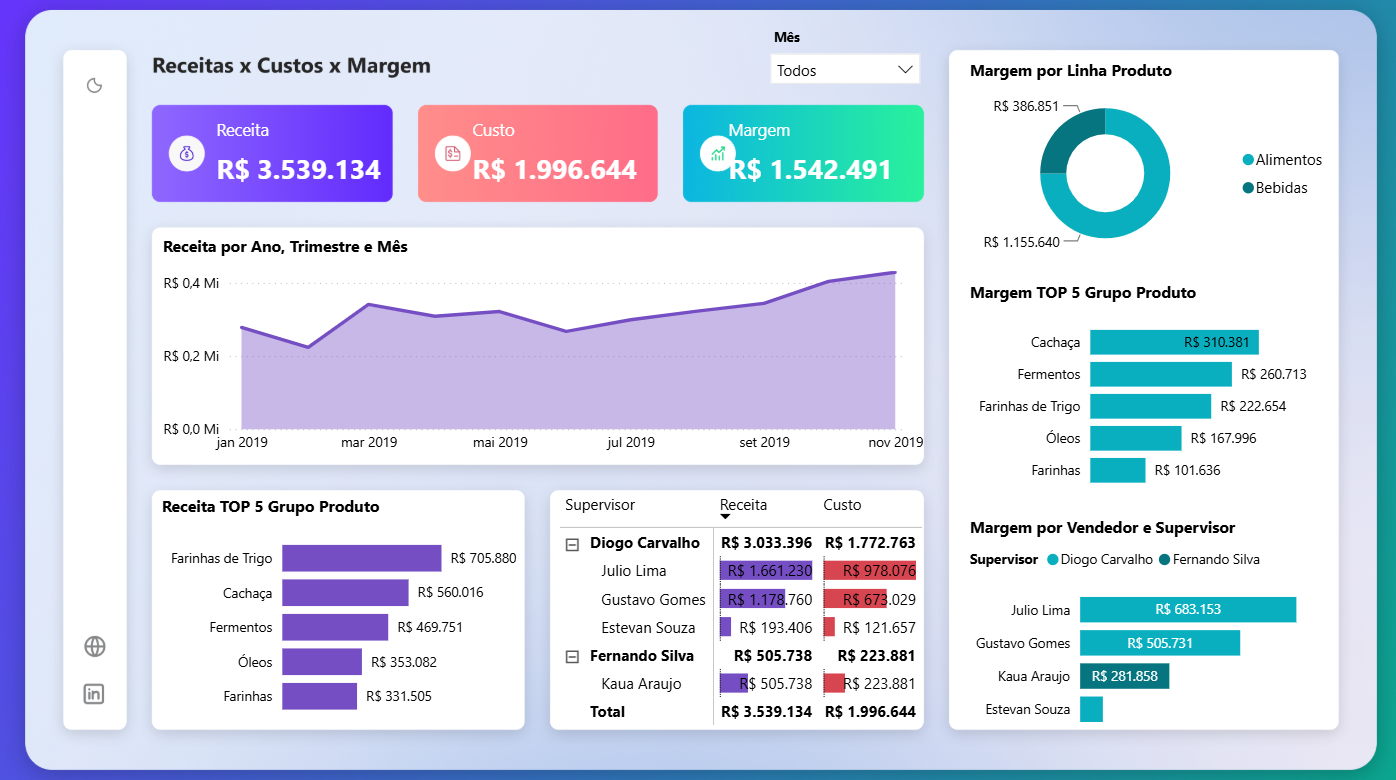

The page's visual inventory and layout, read from the dashboard file:
{"tool":"powerbi","page":{"name":"Dark1","canvas":[1280,720],"ordinal":0},"visuals":[{"type":"cardVisual","fields":{"Data":["Sum(Receita.Receita)","Sum(Receita.Custo)","Receita.Margem"]},"box":[201.3,108.2,662.4,82.5],"z":0},{"type":"barChart","title":"Receita TOP 5 Grupo Produto","fields":{"Category":["Cadastro de Produtos.Grupo Produto"],"Y":["Sum(Receita.Receita)"]},"box":[156.9,453.1,324.5,208.4],"z":1000},{"type":"pivotTable","fields":{"Rows":["Receita.Supervisor","Receita.Vendedor"],"Values":["Sum(Receita.Receita)","Sum(Receita.Custo)"]},"box":[509.9,443.3,341.4,239.4],"z":2000},{"type":"areaChart","fields":{"Category":["Receita.Data.Variation.Hierarquia de datas.Ano","Receita.Data.Variation.Hierarquia de datas.Trimestre","Receita.Data.Variation.Hierarquia de datas.Mês","Receita.Data.Variation.Hierarquia de datas.Dia"],"Y":["Sum(Receita.Receita)"]},"box":[157.8,222.6,684.5,202.2],"z":3000},{"type":"barChart","title":"Margem TOP 5 Grupo Produto","fields":{"Category":["Cadastro de Produtos.Grupo Produto"],"Y":["Receita.Margem"]},"box":[873.4,263.3,332.5,196],"z":4000},{"type":"barChart","fields":{"Y":["Receita.Margem"],"Category":["Receita.Vendedor"],"Series":["Receita.Supervisor"]},"box":[873.4,471.7,332.5,200.4],"z":5000},{"type":"donutChart","fields":{"Y":["Receita.Margem"],"Category":["Cadastro de Produtos.Linha Produto"]},"box":[873.4,66.5,332.5,183.5],"z":6000},{"type":"slicer","fields":{"Values":["Receita.Data.Variation.Hierarquia de datas.Mês"]},"box":[691.6,33.7,152.5,65.6],"z":7000},{"type":"actionButton","box":[78.9,566.6,46.1,39.9],"z":8000},{"type":"actionButton","box":[78.9,612.7,46.1,39.9],"z":9000}]}

Visuals, with their boxes in screenshot pixels (x1, y1, x2, y2), scaled from the page's 1280x720 canvas onto the 1396x780 screenshot:
cardVisual - Sum(Receita.Receita) x Sum(Receita.Custo): 220,117,942,207
"Receita TOP 5 Grupo Produto" barChart: 171,491,525,717
pivotTable - Receita.Supervisor x Receita.Vendedor: 556,480,928,740
areaChart - Receita.Data.Variation.Hierarquia de datas.Ano x Receita.Data.Variation.Hierarquia de datas.Trimestre: 172,241,919,460
"Margem TOP 5 Grupo Produto" barChart: 953,285,1315,498
barChart - Receita.Margem x Receita.Vendedor: 953,511,1315,728
donutChart - Receita.Margem x Cadastro de Produtos.Linha Produto: 953,72,1315,271
slicer - Receita.Data.Variation.Hierarquia de datas.Mês: 754,37,921,108
actionButton: 86,614,136,657
actionButton: 86,664,136,707
